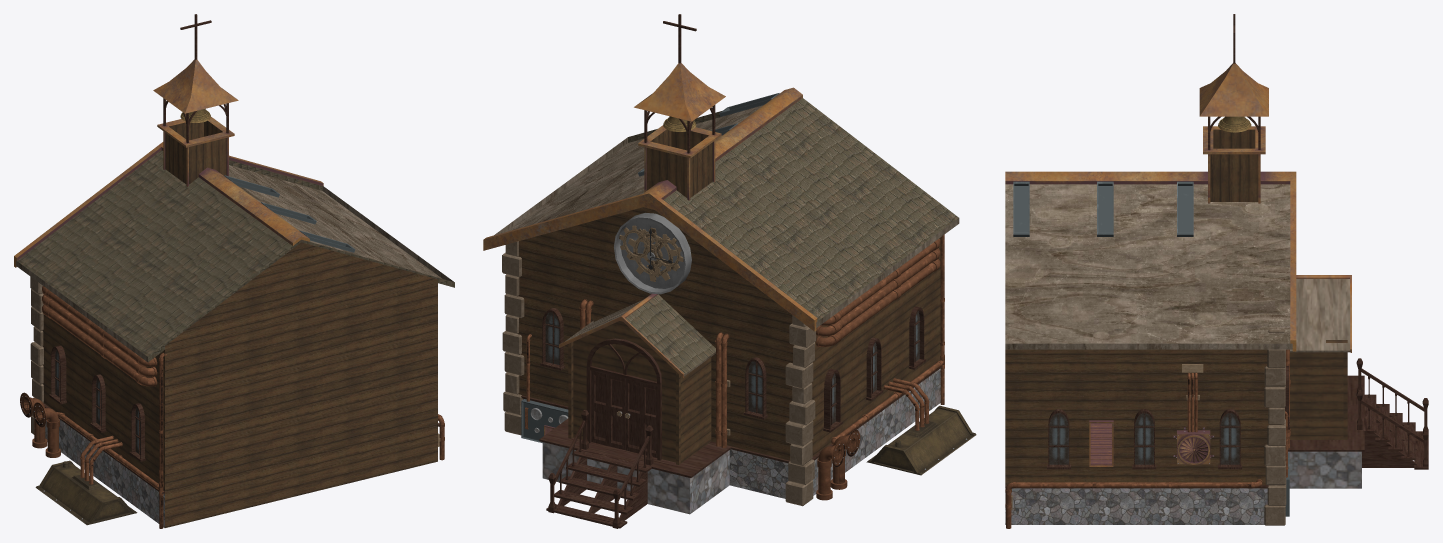
Rendered from Iglesia.obj.
3 views of the same model, side by side, from view 1: azimuth 30°, elevation 25°; view 2: azimuth 150°, elevation 25°; view 3: azimuth 270°, elevation 25° (orthographic). The views are drawn at different scales.
Visible parts, largest first — view 1: defaultMaterial.013_lambert10SG, defaultMaterial.013_lambert9SG, defaultMaterial.013_lambert51SG, defaultMaterial.013_lambert13SG, defaultMaterial.013_lambert11SG, defaultMaterial.013_lambert40SG, defaultMaterial.013_lambert43SG, defaultMaterial.013_lambert25SG, defaultMaterial.013_lambert38SG, defaultMaterial.013_lambert32SG, defaultMaterial.013_lambert12SG, defaultMaterial.013_lambert15SG (+2 smaller); view 2: defaultMaterial.013_lambert9SG, defaultMaterial.013_lambert10SG, defaultMaterial.013_lambert13SG, defaultMaterial.013_lambert36SG, defaultMaterial.013_lambert12SG, defaultMaterial.013_lambert11SG, defaultMaterial.013_lambert51SG, defaultMaterial.013_lambert34SG, defaultMaterial.013_lambert25SG, defaultMaterial.013_lambert20SG, defaultMaterial.013_lambert28SG, defaultMaterial.013_lambert40SG (+12 smaller); view 3: defaultMaterial.013_lambert51SG, defaultMaterial.013_lambert10SG, defaultMaterial.013_lambert25SG, defaultMaterial.013_lambert36SG, defaultMaterial.013_lambert34SG, defaultMaterial.013_lambert11SG, defaultMaterial.013_lambert40SG, defaultMaterial.013_lambert52SG, defaultMaterial.013_lambert12SG, defaultMaterial.013_lambert38SG, defaultMaterial.013_lambert15SG, defaultMaterial.013_lambert33SG (+6 smaller).
Boxes of the visible parts, x1,y1,x2,y2 form: defaultMaterial.013_lambert10SG: (42,242,437,527); defaultMaterial.013_lambert9SG: (17,150,454,362); defaultMaterial.013_lambert51SG: (16,165,454,361); defaultMaterial.013_lambert13SG: (20,286,444,528); defaultMaterial.013_lambert11SG: (14,142,323,267); defaultMaterial.013_lambert40SG: (153,59,238,186); defaultMaterial.013_lambert43SG: (35,460,137,525); defaultMaterial.013_lambert25SG: (45,419,164,527); defaultMaterial.013_lambert38SG: (165,120,226,184); defaultMaterial.013_lambert32SG: (49,345,145,461); defaultMaterial.013_lambert12SG: (30,188,318,434); defaultMaterial.013_lambert15SG: (224,175,355,252); defaultMaterial.013_lambert9SG: (625,98,958,374); defaultMaterial.013_lambert10SG: (518,207,940,460); defaultMaterial.013_lambert13SG: (525,234,944,500); defaultMaterial.013_lambert36SG: (568,321,711,464); defaultMaterial.013_lambert12SG: (502,241,815,506); defaultMaterial.013_lambert11SG: (483,87,817,331); defaultMaterial.013_lambert51SG: (494,105,959,327); defaultMaterial.013_lambert34SG: (546,409,653,528); defaultMaterial.013_lambert25SG: (523,368,940,498); defaultMaterial.013_lambert20SG: (591,370,657,457); defaultMaterial.013_lambert28SG: (542,442,729,514); defaultMaterial.013_lambert40SG: (634,63,725,200); defaultMaterial.013_lambert51SG: (1005,184,1292,349); defaultMaterial.013_lambert10SG: (1005,349,1281,485); defaultMaterial.013_lambert25SG: (1005,488,1267,524); defaultMaterial.013_lambert36SG: (1290,340,1347,439); defaultMaterial.013_lambert34SG: (1356,358,1428,469); defaultMaterial.013_lambert11SG: (1005,171,1296,351); defaultMaterial.013_lambert40SG: (1199,63,1268,203); defaultMaterial.013_lambert52SG: (1290,279,1350,352); defaultMaterial.013_lambert12SG: (1264,329,1286,525); defaultMaterial.013_lambert38SG: (1210,129,1258,201); defaultMaterial.013_lambert15SG: (1013,181,1193,236); defaultMaterial.013_lambert33SG: (1049,413,1239,464).
Size of the model in its own units: 26.89 by 30 by 26.29.
